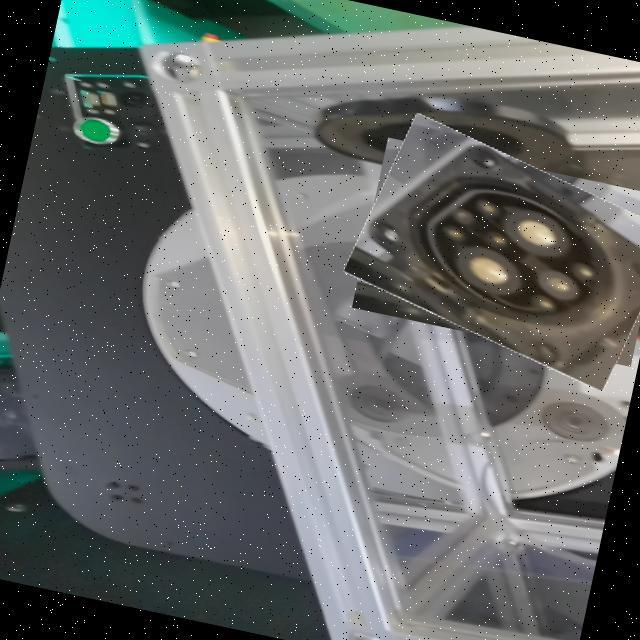GB-T: (396, 124, 640, 374)
